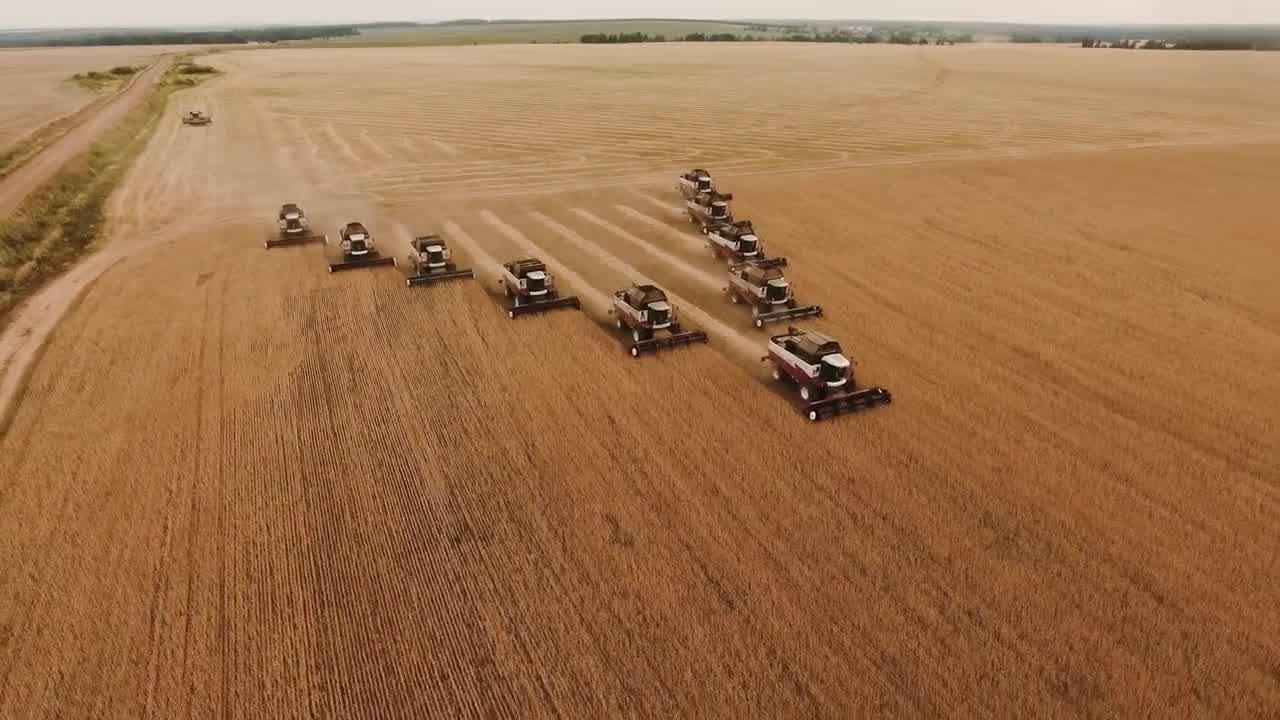combine harvester: (760, 324, 896, 425), (604, 277, 711, 359), (723, 258, 824, 331), (493, 254, 583, 322), (400, 233, 478, 293), (325, 218, 400, 278), (704, 218, 788, 271), (260, 199, 332, 255), (682, 189, 739, 230), (677, 167, 726, 197), (178, 105, 214, 129)
